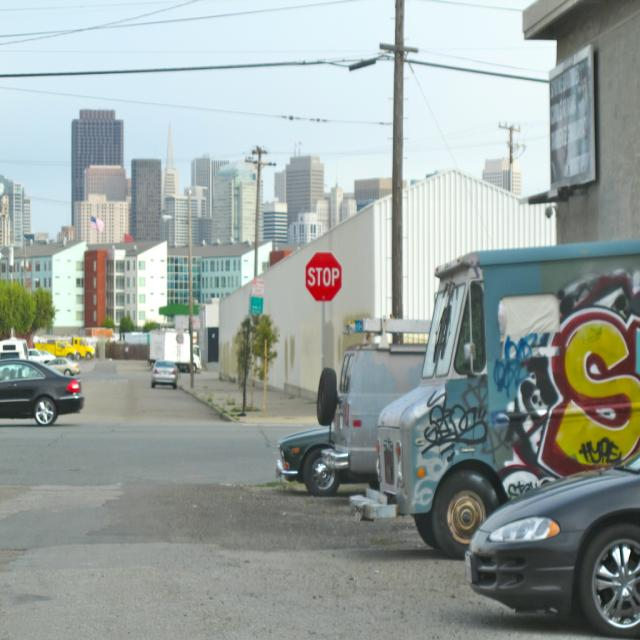car: (448, 458, 636, 622)
